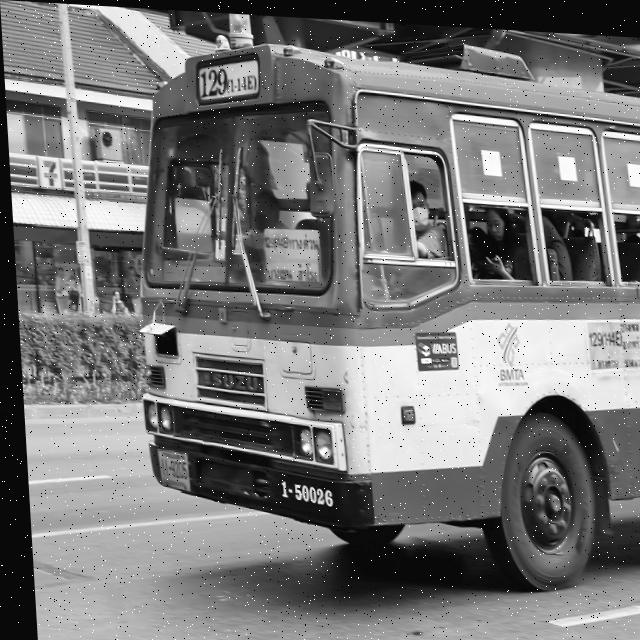BMTA-bus: (109, 5, 640, 603)
Bus-Line-Number: (195, 61, 258, 100)
Destination-Sign-Normal-Expressway: (262, 223, 319, 282)
